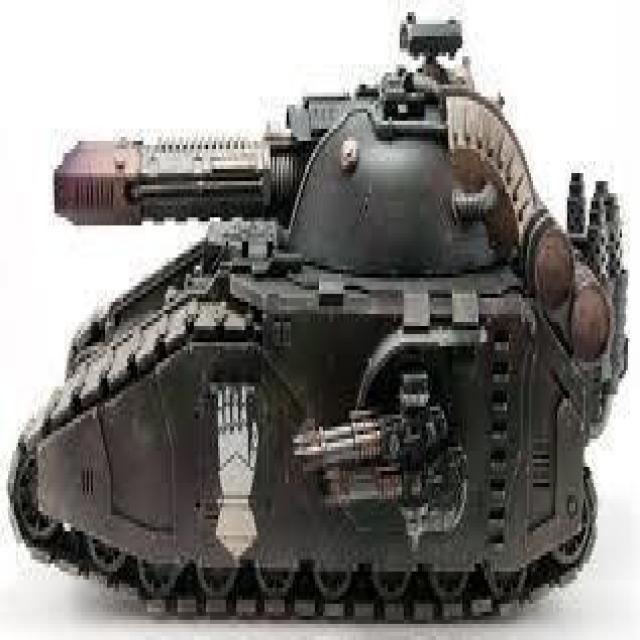Tanks: (6, 111, 628, 594)
